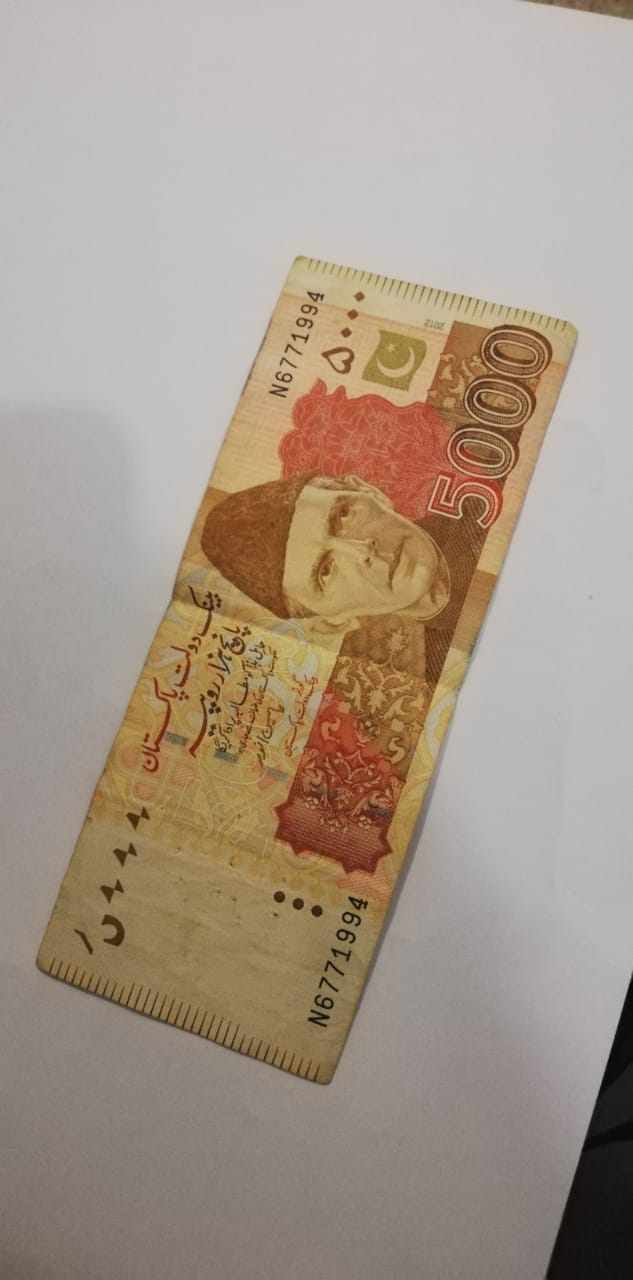5000 rupee: (0, 248, 592, 1073)
